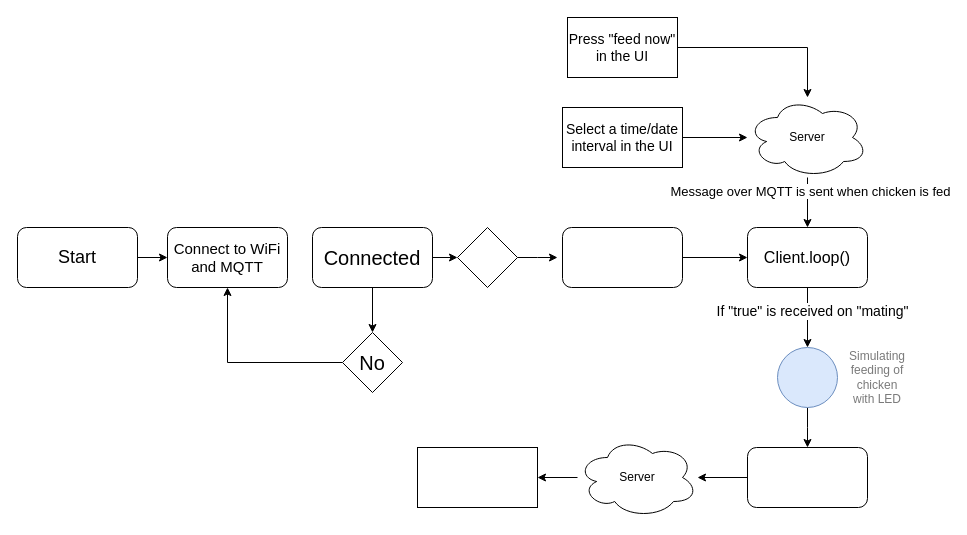
The diagram is 967 pixels wide and 535 high, and some of its shapes have lost their labels. The shapes that lost their labels are listed below. From the top down, each one's centre as x and y in pixels, then its label:
(x=487, y=257): Yes
(x=622, y=257): Subscribe to "mating"
(x=807, y=377): 5 seconds
(x=477, y=477): Save time of feeding to Node-RED UI
(x=807, y=477): Publish "true" on "matingsHistorikk"
